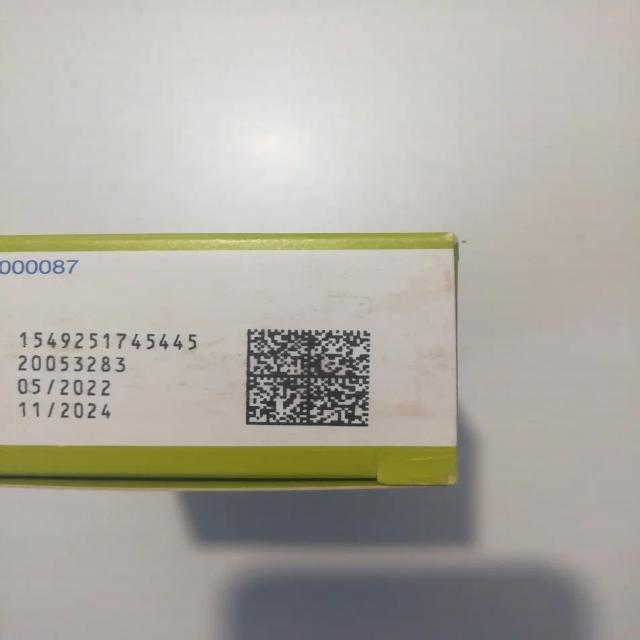datamatrix: (243, 327, 375, 429)
